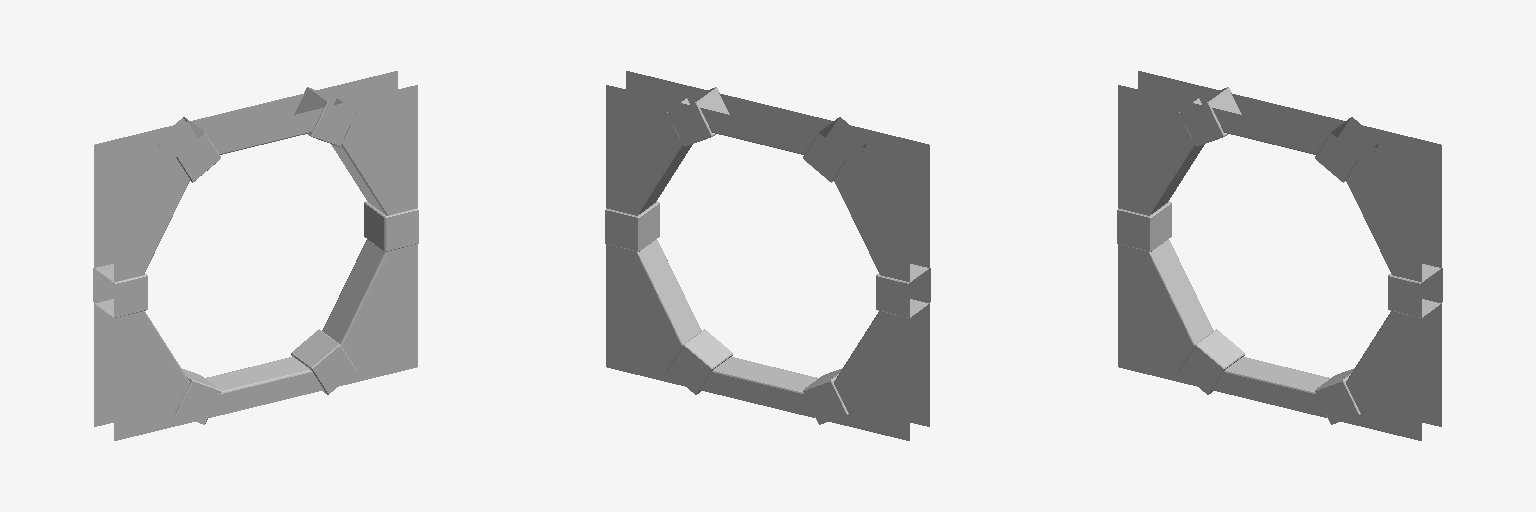
The model's file is HallwayAdd-on1.obj.
3 views of the same model, side by side, from view 1: azimuth 30°, elevation 25°; view 2: azimuth 150°, elevation 25°; view 3: azimuth 330°, elevation 25° (orthographic).
Visible parts, largest first — view 1: Cube.023_Cube.033; view 2: Cube.023_Cube.033; view 3: Cube.023_Cube.033.
Part boxes in pixels (x1,y1,x2,y2): Cube.023_Cube.033: (93,71,418,440); Cube.023_Cube.033: (605,71,930,440); Cube.023_Cube.033: (1117,71,1442,440).
Bounding box in the file's own units: 18.18 × 16.75 × 2.22.